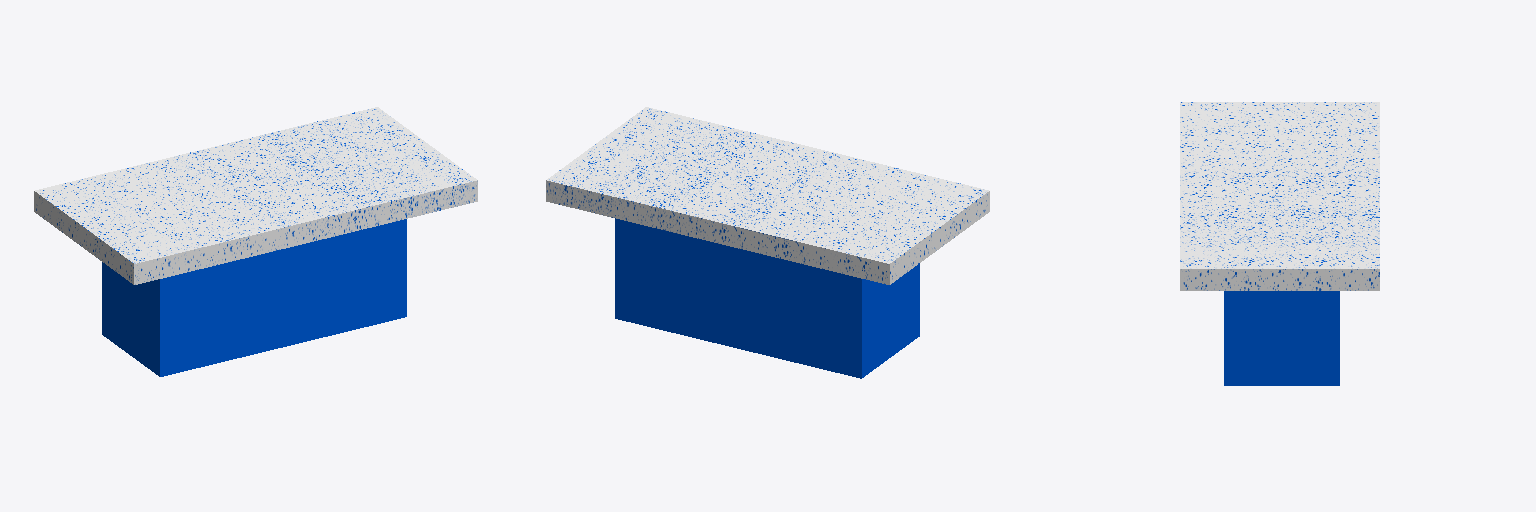
3 views of the same model, side by side, from view 1: azimuth 30°, elevation 25°; view 2: azimuth 150°, elevation 25°; view 3: azimuth 270°, elevation 25° (orthographic).
Visible parts, largest first — view 1: KitchIsland; view 2: KitchIsland; view 3: KitchIsland.
Part boxes in pixels (left/top/right/bottom): KitchIsland: left=34, top=107, right=477, bottom=376; KitchIsland: left=546, top=107, right=989, bottom=378; KitchIsland: left=1180, top=102, right=1379, bottom=385.
Size of the model in its own units: 8.43 by 3.31 by 4.26.
Materials: 1 (1 with a texture image).